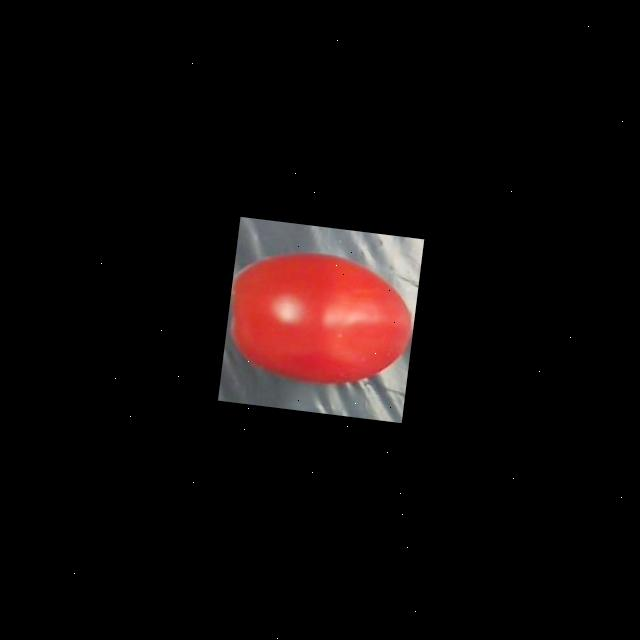tomato: (220, 242, 420, 398)
